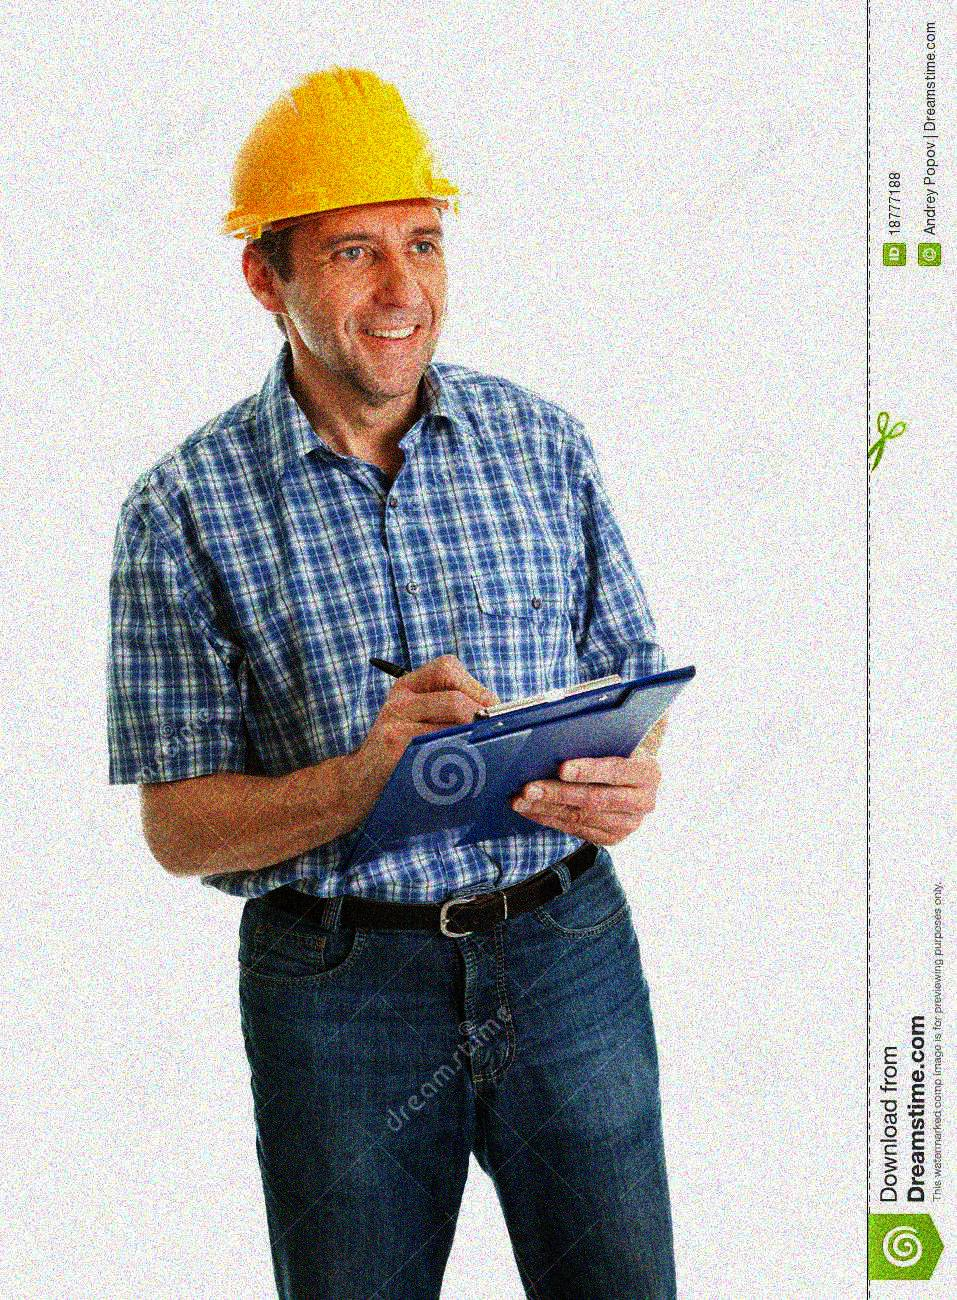helmet: (216, 68, 461, 402)
